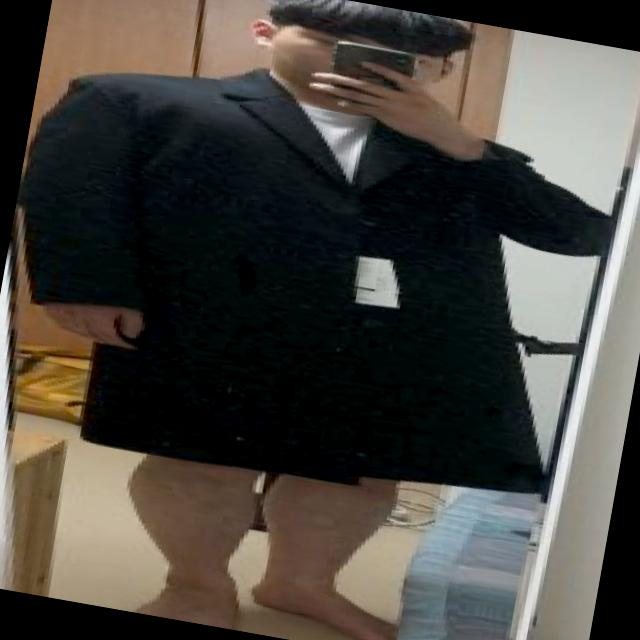coat: (0, 25, 623, 527)
